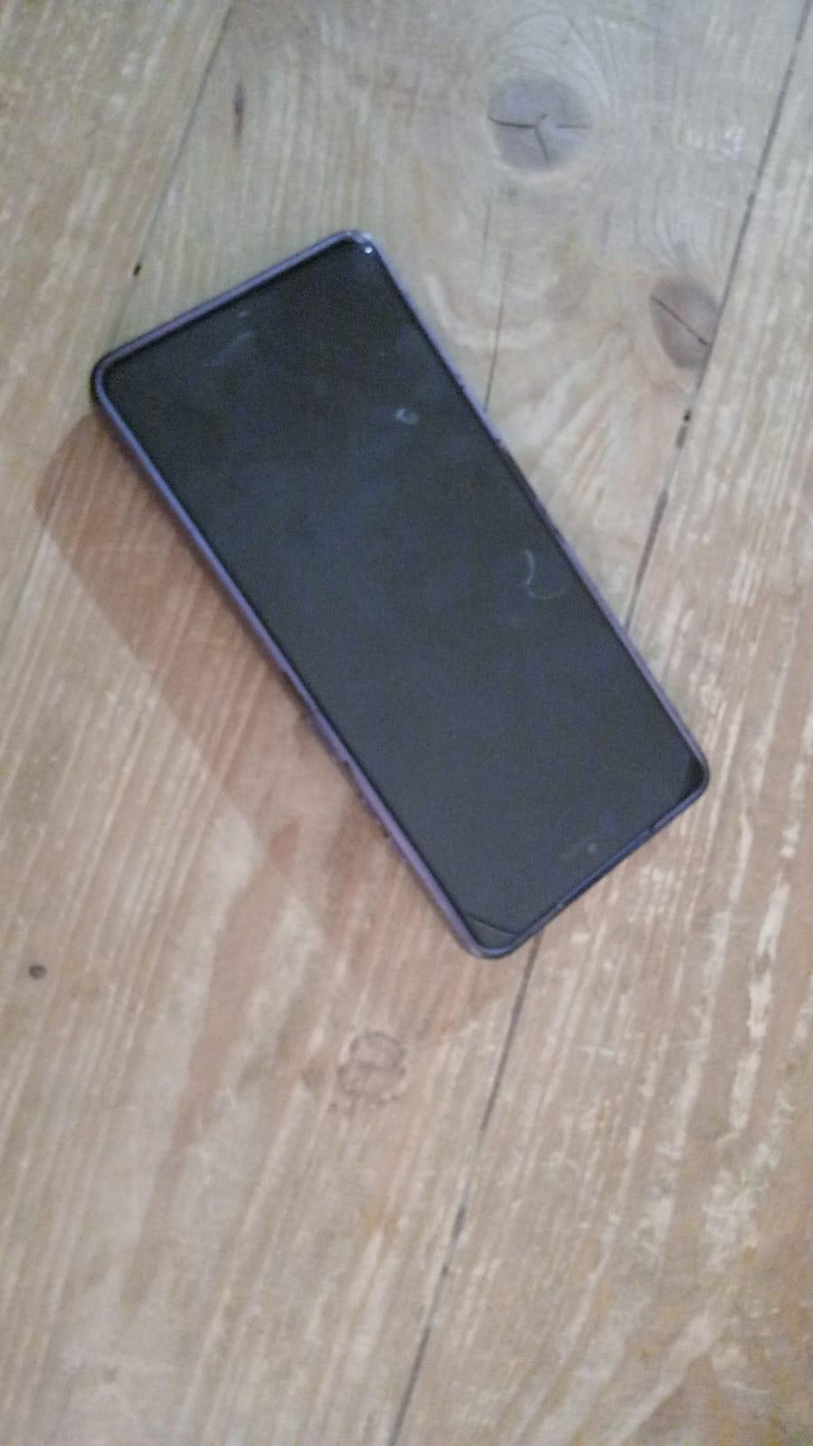smartphone: (88, 229, 712, 959)
